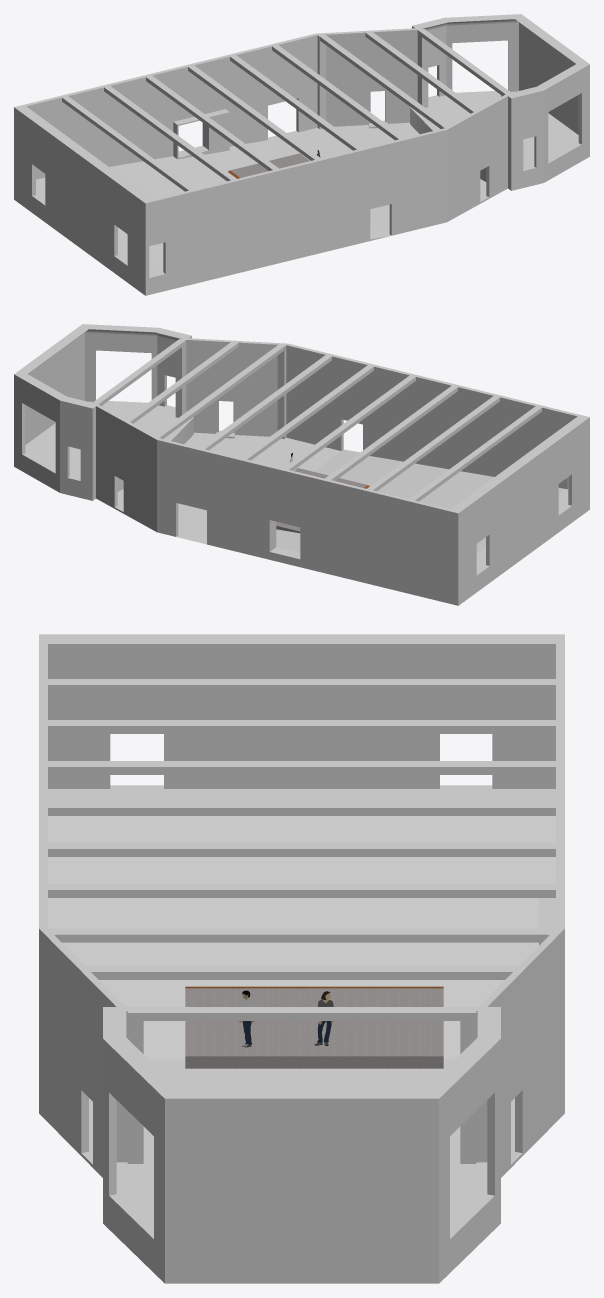
File: west.glb
3 views of the same model, one above another, from view 1: azimuth 30°, elevation 25°; view 2: azimuth 150°, elevation 25°; view 3: azimuth 270°, elevation 25° (orthographic). The views are drawn at different scales.
Parts seen in each view (by area): view 1: _G-Object.003 (Loose Mesh), G-Object.017, G-Object.018, G-Object.020, G-Object.015, G-Object.016, G-Object.019, G-Object.014, G-Object.013, G-Object.012, G-Object.011, G-Object.001 (+2 smaller); view 2: _G-Object.003 (Loose Mesh), G-Object.017, G-Object.018, G-Object.020, G-Object.015, G-Object.016, G-Object.019, G-Object.014, G-Object.013, G-Object.012, G-Object.011, G-Object.007 (+2 smaller); view 3: _G-Object.003 (Loose Mesh), G-Object.001, G-Object.014, G-Object.011, G-Object.015, G-Object.016, G-Object.017, G-Object.018, G-Object.019, G-Object.020, G-Object.013, G-Object.012 (+3 smaller).
Part boxes in pixels (box(x1,y1,x2,y2)): _G-Object.003 (Loose Mesh): box(14, 14, 589, 295); G-Object.017: box(188, 65, 320, 160); G-Object.018: box(146, 75, 278, 170); G-Object.020: box(62, 96, 194, 191); G-Object.015: box(272, 45, 404, 140); G-Object.016: box(230, 55, 362, 150); G-Object.019: box(104, 86, 236, 181); G-Object.014: box(320, 35, 448, 128); G-Object.013: box(365, 32, 478, 113); G-Object.012: box(422, 31, 506, 94); G-Object.011: box(20, 106, 152, 200); G-Object.001: box(230, 153, 309, 177); _G-Object.003 (Loose Mesh): box(14, 324, 589, 605); G-Object.017: box(283, 375, 415, 470); G-Object.018: box(325, 385, 457, 480); G-Object.020: box(409, 406, 541, 501); G-Object.015: box(199, 355, 331, 450); G-Object.016: box(241, 365, 373, 460); G-Object.019: box(367, 396, 499, 491); G-Object.014: box(155, 345, 283, 438); G-Object.013: box(125, 342, 238, 423); G-Object.012: box(97, 341, 181, 404); G-Object.011: box(451, 416, 583, 510); G-Object.007: box(84, 326, 157, 335); _G-Object.003 (Loose Mesh): box(39, 634, 564, 1283); G-Object.001: box(185, 988, 443, 1068); G-Object.014: box(56, 928, 547, 942); G-Object.011: box(48, 638, 555, 651); G-Object.015: box(48, 884, 555, 897); G-Object.016: box(48, 843, 555, 856); G-Object.017: box(48, 802, 555, 815); G-Object.018: box(48, 761, 555, 774); G-Object.019: box(48, 720, 555, 733); G-Object.020: box(48, 679, 555, 692); G-Object.013: box(85, 966, 518, 979); G-Object.012: box(143, 1007, 460, 1020).
Bounding box in the file's own units: 30.92 × 5.74 × 14.8.
13 materials, 2 textured.
